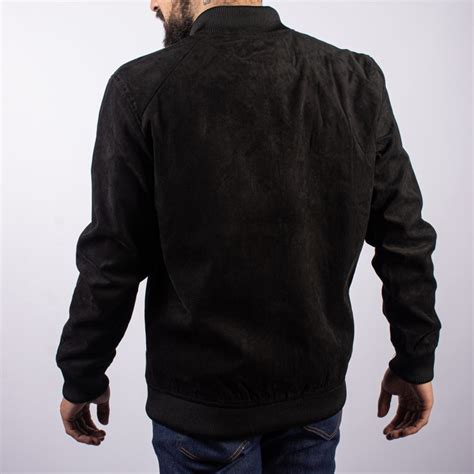gamuza: (56, 27, 442, 404)
